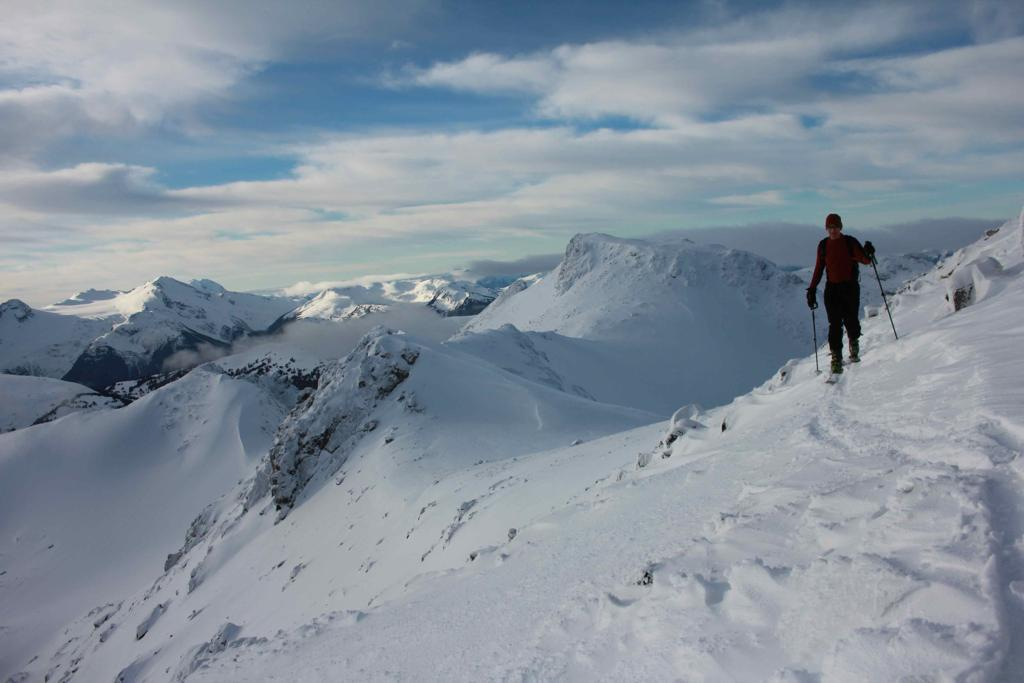face: (828, 225, 839, 239)
